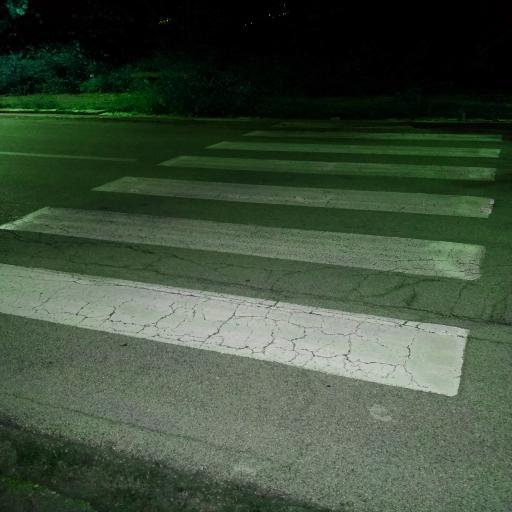crosswalk: (88, 151, 504, 228)
